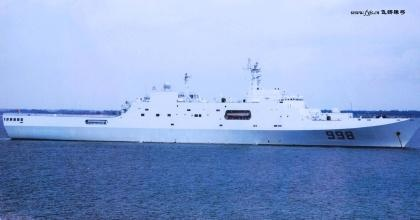warship: (1, 66, 420, 150)
